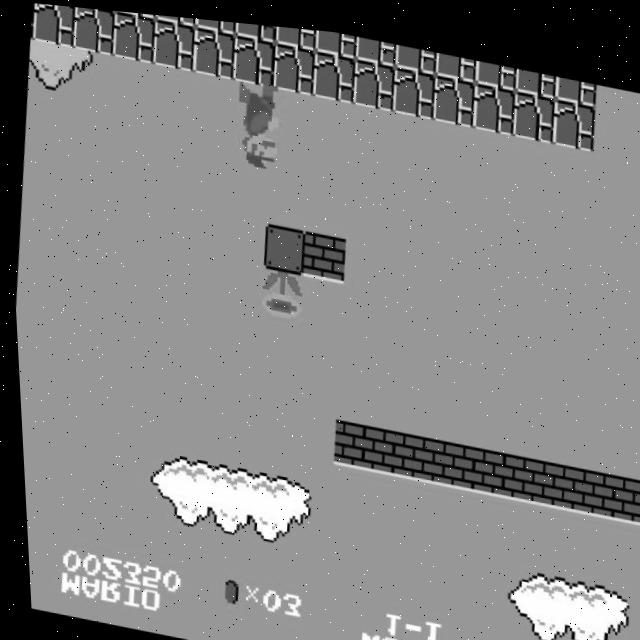0- big_mario: (226, 72, 283, 174)
1- brick_block: (297, 224, 345, 277), (326, 413, 373, 465), (366, 420, 413, 472), (406, 427, 453, 479), (446, 434, 493, 486), (486, 441, 533, 493), (526, 449, 573, 501), (566, 456, 613, 508), (607, 463, 640, 515)
17- undestructible_block: (229, 29, 277, 83), (269, 36, 317, 90), (309, 43, 357, 97), (469, 72, 517, 126), (509, 79, 557, 133), (109, 8, 157, 61), (149, 15, 197, 68), (189, 22, 237, 75), (349, 51, 397, 104), (389, 58, 437, 111), (429, 65, 477, 118), (549, 87, 597, 140), (69, 5, 117, 54), (30, 2, 78, 47), (433, 43, 477, 74), (473, 50, 517, 81), (353, 29, 397, 59), (393, 36, 437, 66), (513, 58, 557, 88), (553, 65, 597, 95), (313, 24, 357, 52), (273, 21, 317, 44), (234, 18, 278, 37), (194, 15, 237, 30), (154, 12, 197, 23), (28, 2, 37, 40)
3- empty_block: (258, 217, 306, 270)
6- flower: (252, 262, 302, 317)
